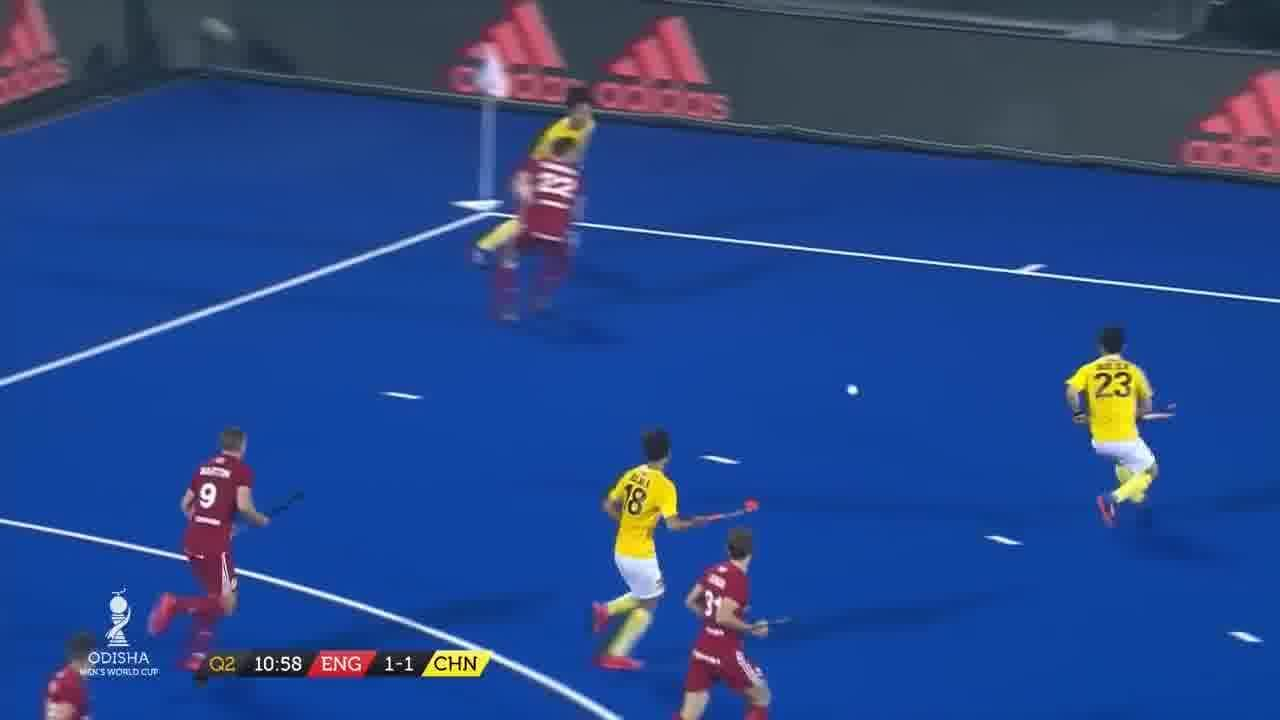ball: (842, 376, 862, 394)
